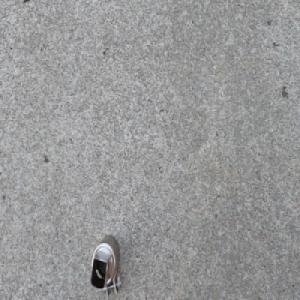MetalPart: (89, 232, 122, 299)
